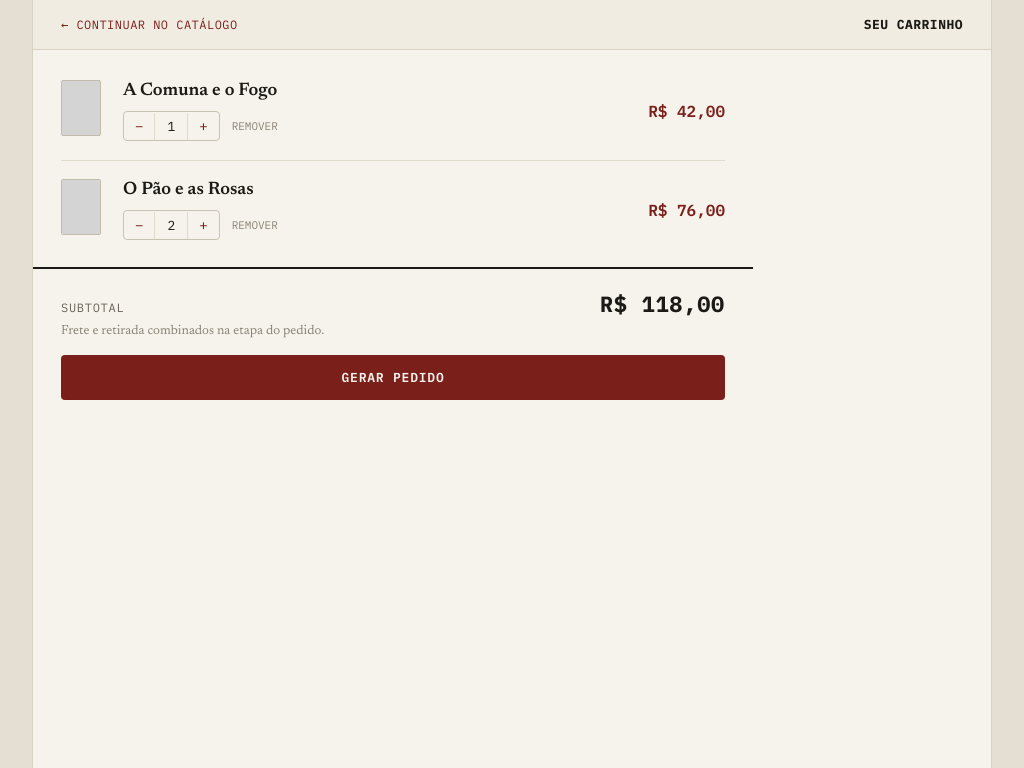
Test case: Carrinho › gerar pedido abre o form e valida campos obrigatórios
This screenshot has width=1024, height=768.
Click the button "Gerar pedido" at (393, 378), box [61,355,725,400]
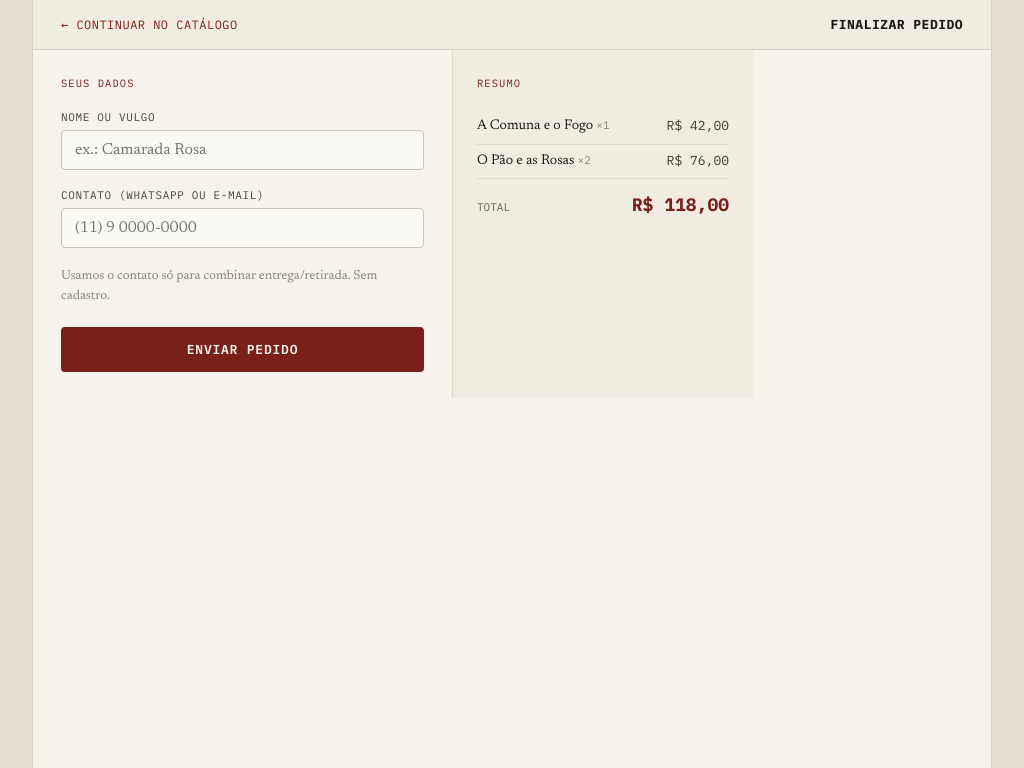
Now the field labelled "Nome ou vulgo" is shown, box [61,130,424,170]
Click the button "Enviar pedido" at (242, 350), box [61,327,424,372]
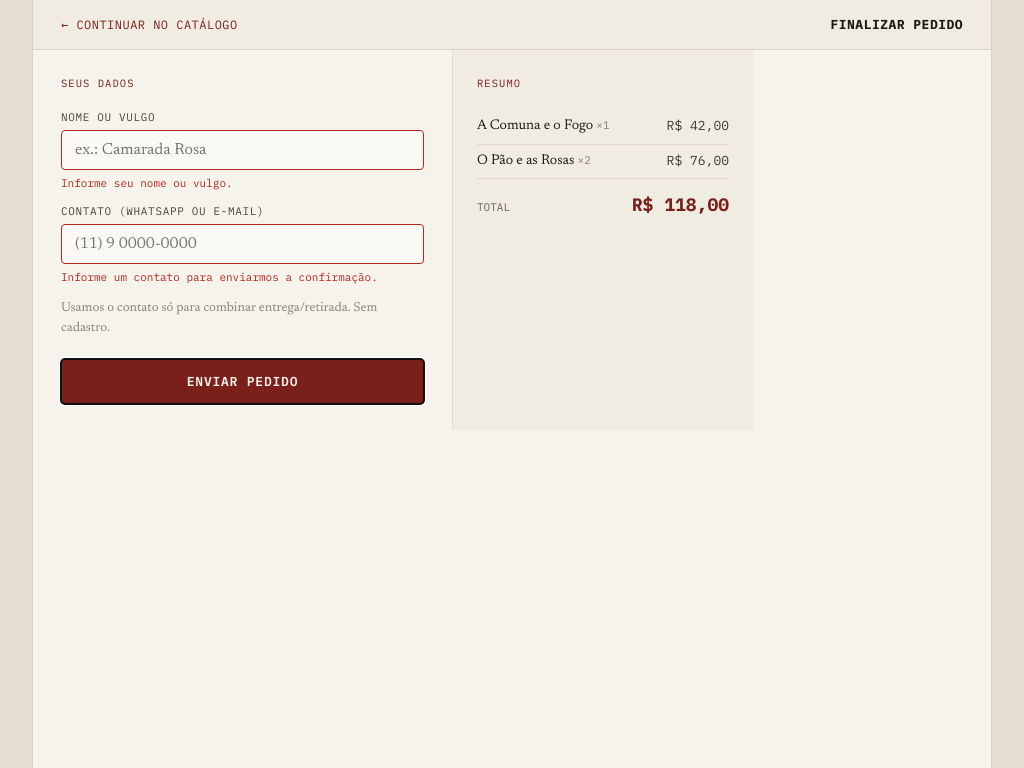
Now the text "Informe seu nome ou vulgo." is shown, box [61,176,233,190]
Now the text "Informe um contato para enviarmos a confirmação." is shown, box [61,270,424,284]
